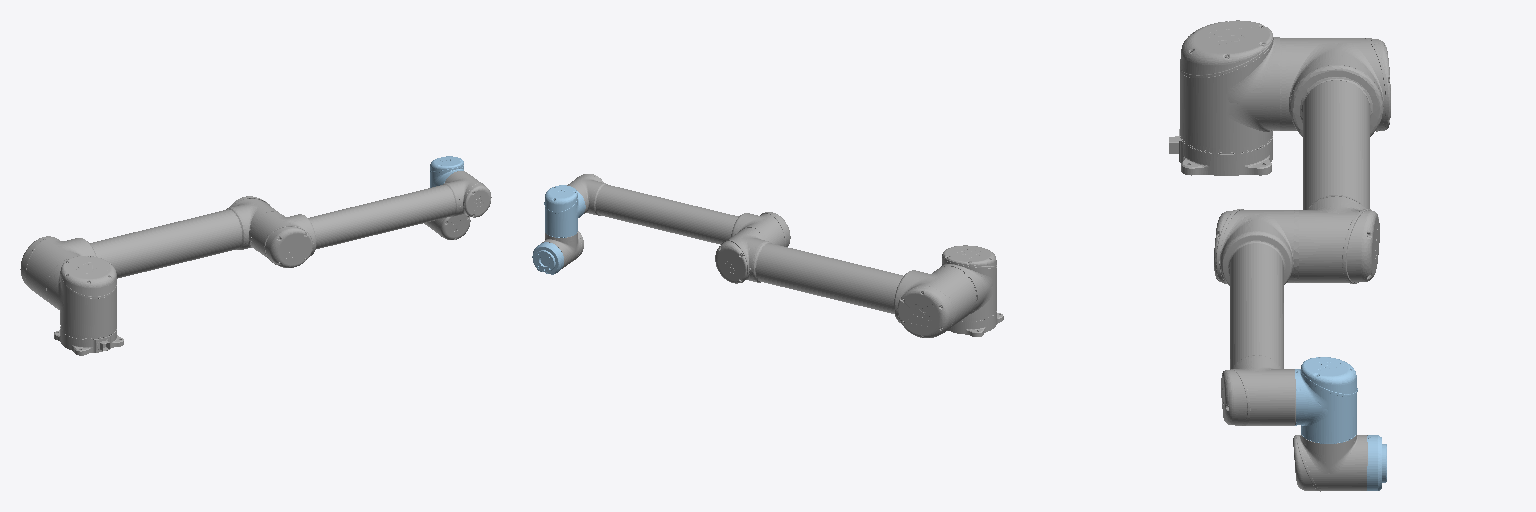
URDF robot description (ur10):
<?xml version="1.0" ?>
<!-- =================================================================================== -->
<!-- |    This document was autogenerated by xacro from ur10_robot.urdf.xacro          | -->
<!-- |    EDITING THIS FILE BY HAND IS NOT RECOMMENDED                                 | -->
<!-- =================================================================================== -->
<robot name="ur10" xmlns:xacro="http://www.ros.org/wiki/xacro">
  <!-- common stuff -->
  <material name="blackish">
    <color rgba="0.2 0.2 0.2 1"/>
  </material>
  <material name="LightGrey">
    <color rgba="0.7 0.7 0.7 1.0"/>
  </material>
  <material name="LightBlue">
    <color rgba="0.670 0.815 0.921 1.0"/>
  </material>
  <!-- ur10 arm -->
  <link name="world"/>
  <joint name="world_joint" type="fixed">
    <parent link="world"/>
    <child link="base_link"/>
    <origin rpy="0.0 0.0 0.0" xyz="0.0 0.0 0.0"/>
  </joint>

  <link name="base_link">
    <visual>
      <origin xyz="0 0 0" rpy="1.57 0 0"/>
      <geometry>
        <mesh filename="assets/ur_description/meshes/ur10/visual/Base.obj"/>
      </geometry>
      <material name="LightGrey"/>
    </visual>
    <collision>
      <geometry>
        <mesh filename="assets/ur_description/meshes/ur10/collision/base.stl"/>
      </geometry>
    </collision>
    <inertial>
      <mass value="4.0"/>
      <origin rpy="0 0 0" xyz="0.0 0.0 0.0"/>
      <inertia ixx="0.0061063308908" ixy="0.0" ixz="0.0" iyy="0.0061063308908" iyz="0.0" izz="0.01125"/>
    </inertial>
  </link>
  <joint name="shoulder_pan_joint" type="revolute">
    <parent link="base_link"/>
    <child link="shoulder_link"/>
    <origin rpy="0.0 0.0 0.0" xyz="0.0 0.0 0.1273"/>
    <axis xyz="0 0 1"/>
    <limit effort="330.0" lower="-6.2831853" upper="6.2831853" velocity="2.16"/>
    <dynamics damping="0.0" friction="0.0"/>
  </joint>
  <link name="shoulder_link">
    <visual>
      <origin xyz="0 0 0" rpy="1.57 0 0"/>
      <geometry>
        <mesh filename="assets/ur_description/meshes/ur10/visual/Shoulder.obj"/>
      </geometry>
      <material name="LightGrey"/>
    </visual>
    <collision>
      <geometry>
        <mesh filename="assets/ur_description/meshes/ur10/collision/shoulder.stl"/>
      </geometry>
    </collision>
    <inertial>
      <mass value="7.778"/>
      <origin rpy="0 0 0" xyz="0.0 0.0 0.0"/>
      <inertia ixx="0.0314743125769" ixy="0.0" ixz="0.0" iyy="0.0314743125769" iyz="0.0" izz="0.021875625"/>
    </inertial>
  </link>
  <joint name="shoulder_lift_joint" type="revolute">
    <parent link="shoulder_link"/>
    <child link="upper_arm_link"/>
    <origin rpy="0.0 1.570796325 0.0" xyz="0.0 0.220941 0.0"/>
    <axis xyz="0 1 0"/>
    <limit effort="330.0" lower="-6.2831853" upper="6.2831853" velocity="2.16"/>
    <dynamics damping="0.0" friction="0.0"/>
  </joint>
  <link name="upper_arm_link">
    <visual>
      <origin xyz="0 0 0" rpy="1.57 0 0"/>
      <geometry>
        <mesh filename="assets/ur_description/meshes/ur10/visual/UpperArm.obj"/>
      </geometry>
      <material name="LightGrey"/>
    </visual>
    <collision>
      <geometry>
        <mesh filename="assets/ur_description/meshes/ur10/collision/upper_arm.stl"/>
      </geometry>
    </collision>
    <inertial>
      <mass value="12.93"/>
      <origin rpy="0 0 0" xyz="0.0 0.0 0.306"/>
      <inertia ixx="0.421753803798" ixy="0.0" ixz="0.0" iyy="0.421753803798" iyz="0.0" izz="0.036365625"/>
    </inertial>
  </link>
  <joint name="elbow_joint" type="revolute">
    <parent link="upper_arm_link"/>
    <child link="forearm_link"/>
    <origin rpy="0.0 0.0 0.0" xyz="0.0 -0.1719 0.612"/>
    <axis xyz="0 1 0"/>
    <limit effort="150.0" lower="-6.2831853" upper="6.2831853" velocity="3.15"/>
    <dynamics damping="0.0" friction="0.0"/>
  </joint>
  <link name="forearm_link">
    <visual>
      <origin xyz="0 0 0" rpy="1.57 0 0"/>
      <geometry>
        <mesh filename="assets/ur_description/meshes/ur10/visual/Forearm.obj"/>
      </geometry>
      <material name="LightGrey"/>
    </visual>
    <collision>
      <geometry>
        <mesh filename="assets/ur_description/meshes/ur10/collision/forearm.stl"/>
      </geometry>
    </collision>
    <inertial>
      <mass value="3.87"/>
      <origin rpy="0 0 0" xyz="0.0 0.0 0.28615"/>
      <inertia ixx="0.111069694097" ixy="0.0" ixz="0.0" iyy="0.111069694097" iyz="0.0" izz="0.010884375"/>
    </inertial>
  </link>
  <joint name="wrist_1_joint" type="revolute">
    <parent link="forearm_link"/>
    <child link="wrist_1_link"/>
    <origin rpy="0.0 1.570796325 0.0" xyz="0.0 0.0 0.5723"/>
    <axis xyz="0 1 0"/>
    <limit effort="54.0" lower="-6.2831853" upper="6.2831853" velocity="3.2"/>
    <dynamics damping="0.0" friction="0.0"/>
  </joint>
  <link name="wrist_1_link">
    <visual>
      <origin xyz="0 0 0" rpy="1.57 0 0"/>
      <geometry>
        <mesh filename="assets/ur_description/meshes/ur10/visual/Wrist1.obj"/>
      </geometry>
      <material name="LightBlue"/>
    </visual>
    <collision>
      <geometry>
        <mesh filename="assets/ur_description/meshes/ur10/collision/wrist_1.stl"/>
      </geometry>
    </collision>
    <inertial>
      <mass value="1.96"/>
      <origin rpy="0 0 0" xyz="0.0 0.0 0.0"/>
      <inertia ixx="0.0051082479567" ixy="0.0" ixz="0.0" iyy="0.0051082479567" iyz="0.0" izz="0.0055125"/>
    </inertial>
  </link>
  <joint name="wrist_2_joint" type="revolute">
    <parent link="wrist_1_link"/>
    <child link="wrist_2_link"/>
    <origin rpy="0.0 0.0 0.0" xyz="0.0 0.1149 0.0"/>
    <axis xyz="0 0 1"/>
    <limit effort="54.0" lower="-6.2831853" upper="6.2831853" velocity="3.2"/>
    <dynamics damping="0.0" friction="0.0"/>
  </joint>
  <link name="wrist_2_link">
    <visual>
      <origin xyz="0 0 0" rpy="1.57 0 0"/>
      <geometry>
        <mesh filename="assets/ur_description/meshes/ur10/visual/Wrist2.obj"/>
      </geometry>
      <material name="LightGrey"/>
    </visual>
    <collision>
      <geometry>
        <mesh filename="assets/ur_description/meshes/ur10/collision/wrist_2.stl"/>
      </geometry>
    </collision>
    <inertial>
      <mass value="1.96"/>
      <origin rpy="0 0 0" xyz="0.0 0.0 0.0"/>
      <inertia ixx="0.0051082479567" ixy="0.0" ixz="0.0" iyy="0.0051082479567" iyz="0.0" izz="0.0055125"/>
    </inertial>
  </link>
  <joint name="wrist_3_joint" type="revolute">
    <parent link="wrist_2_link"/>
    <child link="wrist_3_link"/>
    <origin rpy="0.0 0.0 0.0" xyz="0.0 0.0 0.1157"/>
    <axis xyz="0 1 0"/>
    <limit effort="54.0" lower="-6.2831853" upper="6.2831853" velocity="3.2"/>
    <dynamics damping="0.0" friction="0.0"/>
  </joint>
  <link name="wrist_3_link">
    <visual>
      <origin xyz="0 0 0" rpy="1.57 0 0"/>
      <geometry>
        <mesh filename="assets/ur_description/meshes/ur10/visual/Wrist3.obj"/>
      </geometry>
      <material name="LightBlue"/>
    </visual>
    <collision>
      <geometry>
        <mesh filename="assets/ur_description/meshes/ur10/collision/wrist_3.stl"/>
      </geometry>
    </collision>
    <inertial>
      <mass value="0.202"/>
      <origin rpy="0 0 0" xyz="0.0 0.0 0.0"/>
      <inertia ixx="0.000526462289415" ixy="0.0" ixz="0.0" iyy="0.000526462289415" iyz="0.0" izz="0.000568125"/>
    </inertial>
  </link>

  <joint name="ee_fixed_joint" type="fixed">
    <parent link="wrist_3_link"/>
    <child link="ee_link"/>
    <origin rpy="0.0 0.0 1.570796325" xyz="0.0 0.0922 0.0"/>
  </joint>

  <link name="ee_link">
    <collision>
      <geometry>
        <box size="0.01 0.01 0.01"/>
      </geometry>
      <origin rpy="0 0 0" xyz="-0.01 0 0"/>
    </collision>
  </link>

  <joint name="pr2_left_gripper_joint" type="revolute">
    <axis xyz="0 0 1"/>
    <limit effort="1000.0" lower="-2.0" upper="0.548" velocity="0.5"/>
    <parent link="ee_link"/>
    <child link="left_gripper"/>
    <origin rpy="0 0 0" xyz="0 0.01 0"/>
  </joint>

<link name="left_gripper">
  <contact>
    <lateral_friction value="5.0"/>
    <spinning_friction value="0.1"/>
  </contact>
  <visual>
    <origin rpy="0.0 0 0" xyz="0 0 0"/>
    <material name="blackish"/>
    <geometry>
      <mesh filename="assets/pr2_gripper/l_finger_collision.stl"/>
    </geometry>
  </visual>
  <collision>
    <origin rpy="0.0 0 0" xyz="0 0 0"/>
    <geometry>
      <mesh filename="assets/pr2_gripper/l_finger_collision.stl" scale=".9 .9 .9"/>
    </geometry>
  </collision>
  <inertial>
    <mass value="0.5"/>
    <inertia ixx="1.0" ixy="0.0" ixz="0.0" iyy="1.0" iyz="0.0" izz="1.0"/>
  </inertial>
 </link>

 <joint name="left_tip_joint" type="fixed">
  <parent link="left_gripper"/>
  <child link="left_tip"/>
</joint>

<link name="left_tip">
  <contact>
    <lateral_friction value="5.0"/>
    <spinning_friction value="0.1"/>
  </contact>
  <visual>
    <origin rpy="0.0 0 0" xyz="0.09137 0.00495 0"/>
    <material name="blackish"/>
    <geometry>
      <mesh filename="assets/pr2_gripper/l_finger_tip.stl"/>
    </geometry>
  </visual>
  <collision>
    <geometry>
      <box size=".03 .03 .02"/>
    </geometry>
    <origin rpy="0.0 0.0 0" xyz="0.105 0.00495 0"/>
  </collision>
  <inertial>
    <mass value="0.1"/>
    <inertia ixx="1.0" ixy="0.0" ixz="0.0" iyy="1.0" iyz="0.0" izz="1.0"/>
  </inertial>
</link>

<joint name="pr2_right_gripper_joint" type="revolute">
  <axis xyz="0 0 -1"/>
  <limit effort="1000.0" lower="0.0" upper="0.548" velocity="0.5"/>
  <origin rpy="0 0 0" xyz="0 -0.01 0"/>
  <parent link="ee_link"/>
  <child link="right_gripper"/>
</joint>

<link name="right_gripper">
  <contact>
    <lateral_friction value="5.0"/>
    <spinning_friction value="0.3"/>
  </contact>
  <visual>
    <origin rpy="-3.1415 0 0" xyz="0 0 0"/>
    <material name="blackish"/>
    <geometry>
      <mesh filename="assets/pr2_gripper/l_finger_collision.stl"/>
    </geometry>
  </visual>
       <collision>
    <origin rpy="-3.1415 0 0" xyz="0 0 0"/>
    <geometry>
      <mesh filename="assets/pr2_gripper/l_finger_collision.stl"/>
    </geometry>
  </collision>
  <inertial>
    <mass value="0.05"/>
    <inertia ixx="1.0" ixy="0.0" ixz="0.0" iyy="1.0" iyz="0.0" izz="1.0"/>
  </inertial>
</link>

<joint name="right_tip_joint" type="fixed">
  <parent link="right_gripper"/>
  <child link="right_tip"/>
</joint>

<link name="right_tip">
  <contact>
    <lateral_friction value="5.0"/>
    <spinning_friction value="0.2"/>
  </contact>
  <visual>
    <origin rpy="-3.1415 0 0" xyz="0.09137 0.00495 0"/>
    <material name="blackish"/>
    <geometry>
      <mesh filename="assets/pr2_gripper/l_finger_tip.stl"/>
    </geometry>
  </visual>
  <collision>
    <geometry>
      <box size=".03 .03 .02"/>
    </geometry>
    <origin rpy="-3.1415 0 0" xyz="0.105 0.00495 0"/>
  </collision>
  <inertial>
    <mass value="0.05"/>
    <inertia ixx="1.0" ixy="0.0" ixz="0.0" iyy="1.0" iyz="0.0" izz="1.0"/>
  </inertial>
</link>

</robot>

--- Render facts (derived) ---
Views: 3 orthographic renders of the robot side by side, from view 1: azimuth 30°, elevation 25°; view 2: azimuth 150°, elevation 25°; view 3: azimuth 270°, elevation 25°.
Robot: ur10 — 13 links, 12 joints (8 revolute, 4 fixed); root link world; default pose: all joints at 0.
Links seen in each view (by area): view 1: upper_arm_link, forearm_link, shoulder_link, base_link, wrist_2_link, wrist_1_link; view 2: upper_arm_link, forearm_link, shoulder_link, wrist_1_link, wrist_3_link, wrist_2_link, base_link; view 3: upper_arm_link, forearm_link, shoulder_link, wrist_1_link, wrist_2_link, base_link, wrist_3_link.
Link boxes in pixels (x1,y1,x2,y2): upper_arm_link: (20, 196, 278, 304); forearm_link: (249, 171, 491, 267); shoulder_link: (48, 256, 116, 339); base_link: (54, 328, 123, 355); wrist_2_link: (424, 214, 470, 239); wrist_1_link: (430, 156, 463, 187); upper_arm_link: (715, 229, 976, 337); forearm_link: (567, 174, 790, 246); shoulder_link: (940, 245, 996, 321); wrist_1_link: (544, 185, 585, 237); wrist_3_link: (532, 242, 563, 274); wrist_2_link: (542, 231, 583, 268); base_link: (948, 313, 1003, 336); upper_arm_link: (1280, 38, 1390, 283); forearm_link: (1214, 209, 1298, 425); shoulder_link: (1180, 20, 1279, 153); wrist_1_link: (1295, 357, 1357, 443); wrist_2_link: (1293, 435, 1367, 491); base_link: (1169, 129, 1272, 175); wrist_3_link: (1367, 435, 1386, 490).
Bounding box of the posed robot: 1.31 × 0.3552 × 0.2501 m (x, y, z).
7 mesh visuals loaded from 9 distinct referenced files (7 OBJ); not drawn: 4 (reference not matched to a file when rendering).